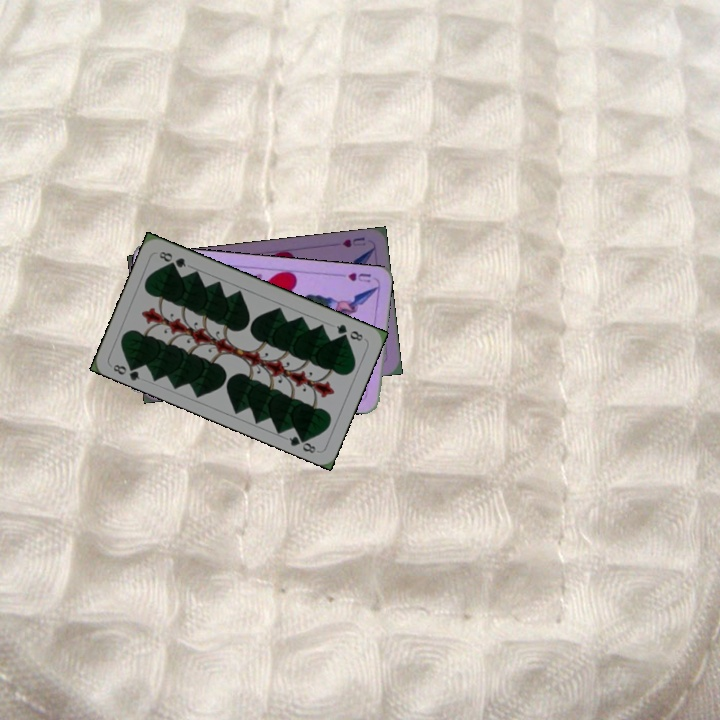G8: (332, 320, 366, 344), (109, 359, 143, 383)
HU: (338, 233, 368, 250), (344, 269, 374, 285)
